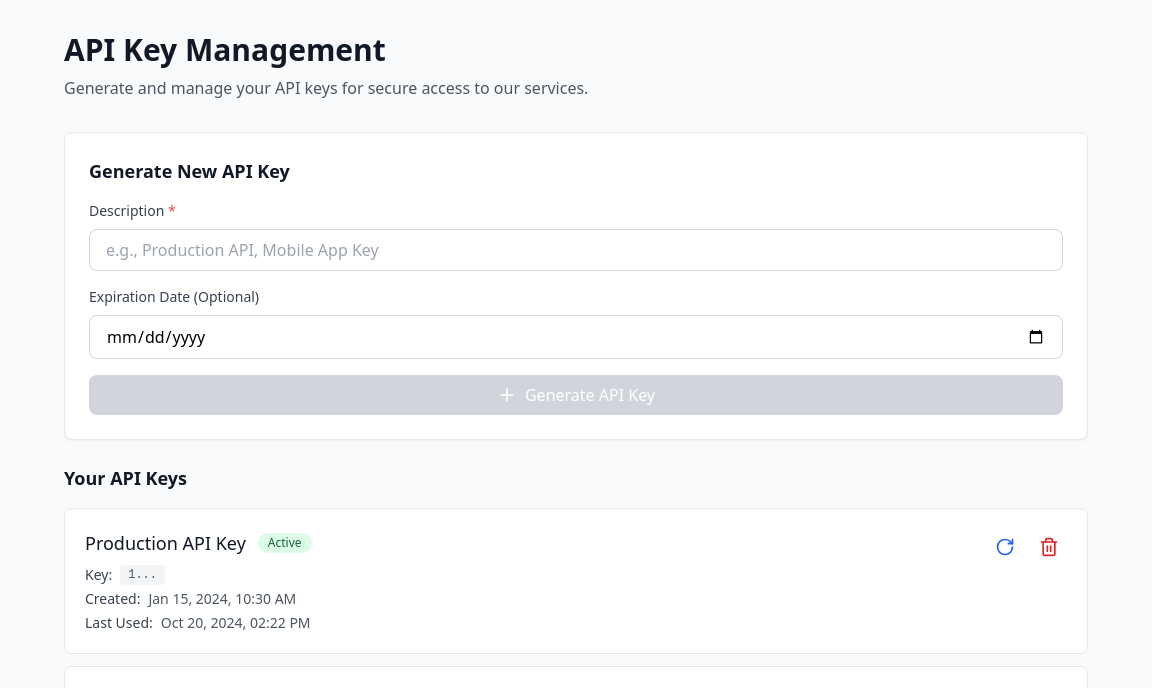
Test: ApiKeyManagementPage (Integration) › shows error toast on rotate failure
This screenshot has width=1152, height=688.
Try rotating key
Step 1. Click the button with test id "rotate-api-key-button-1" → [1005, 547], box [987,529,1023,565]
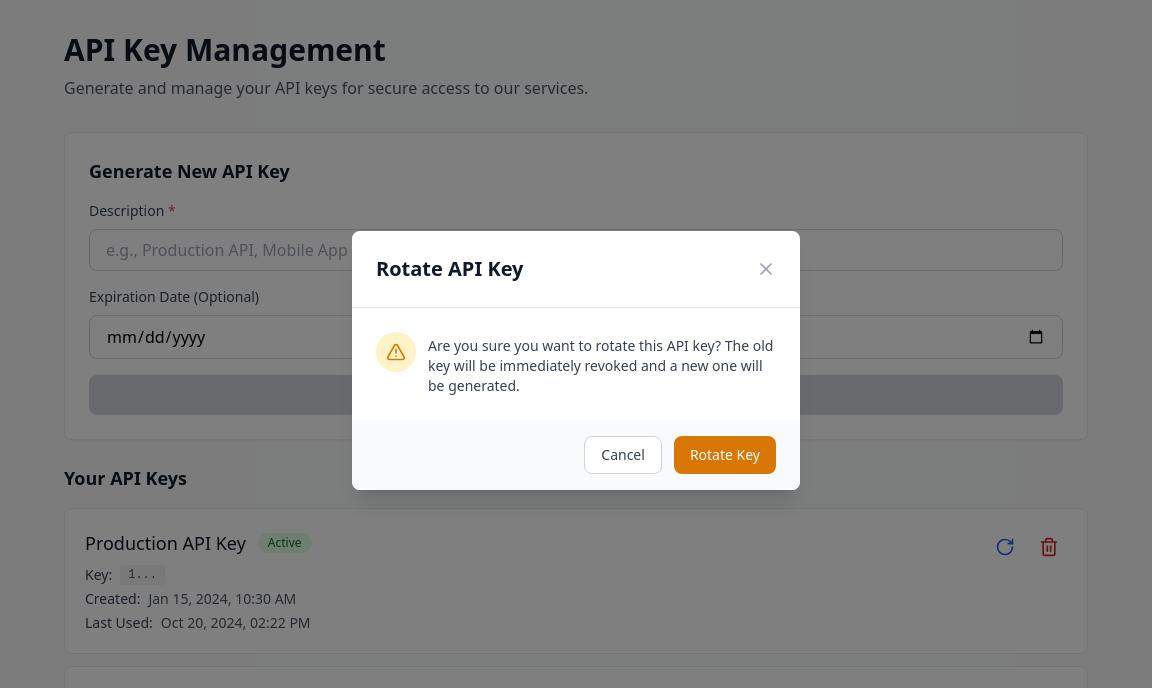
Now the text "Are you sure you want to rotate this API key?" is shown, box [428,336,773,394]
Step 2. Click the button "Rotate Key" → [725, 454], box [674,436,776,474]
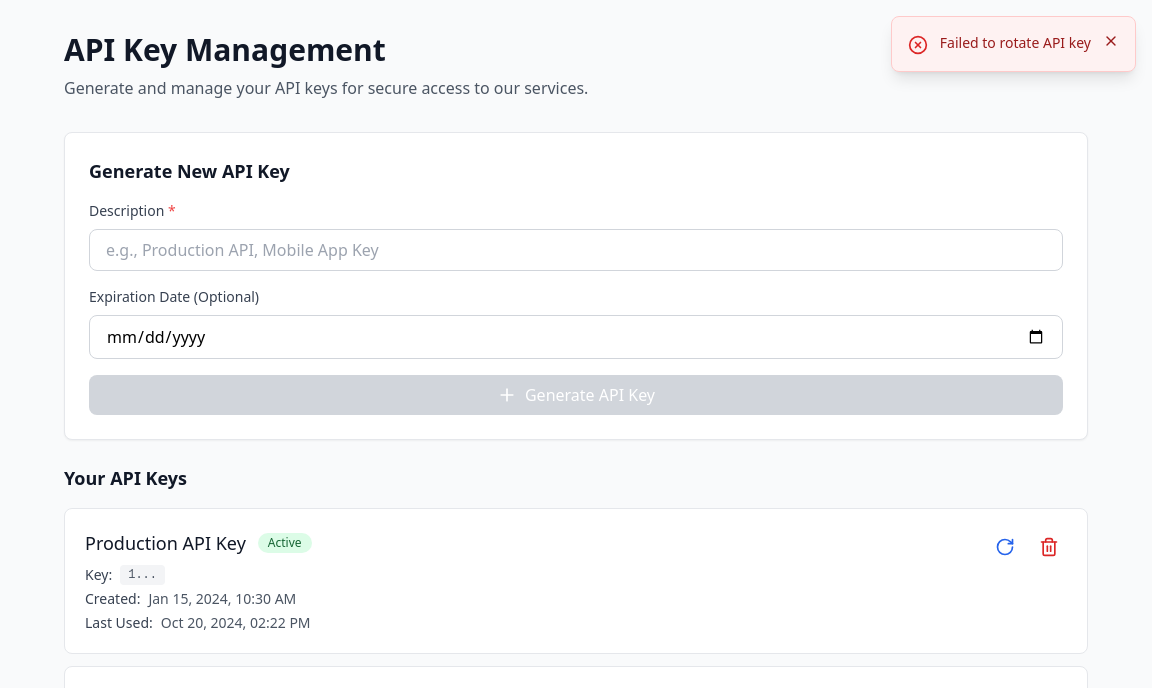
Now the text "Failed to rotate API key" is shown, box [940,33,1091,53]
